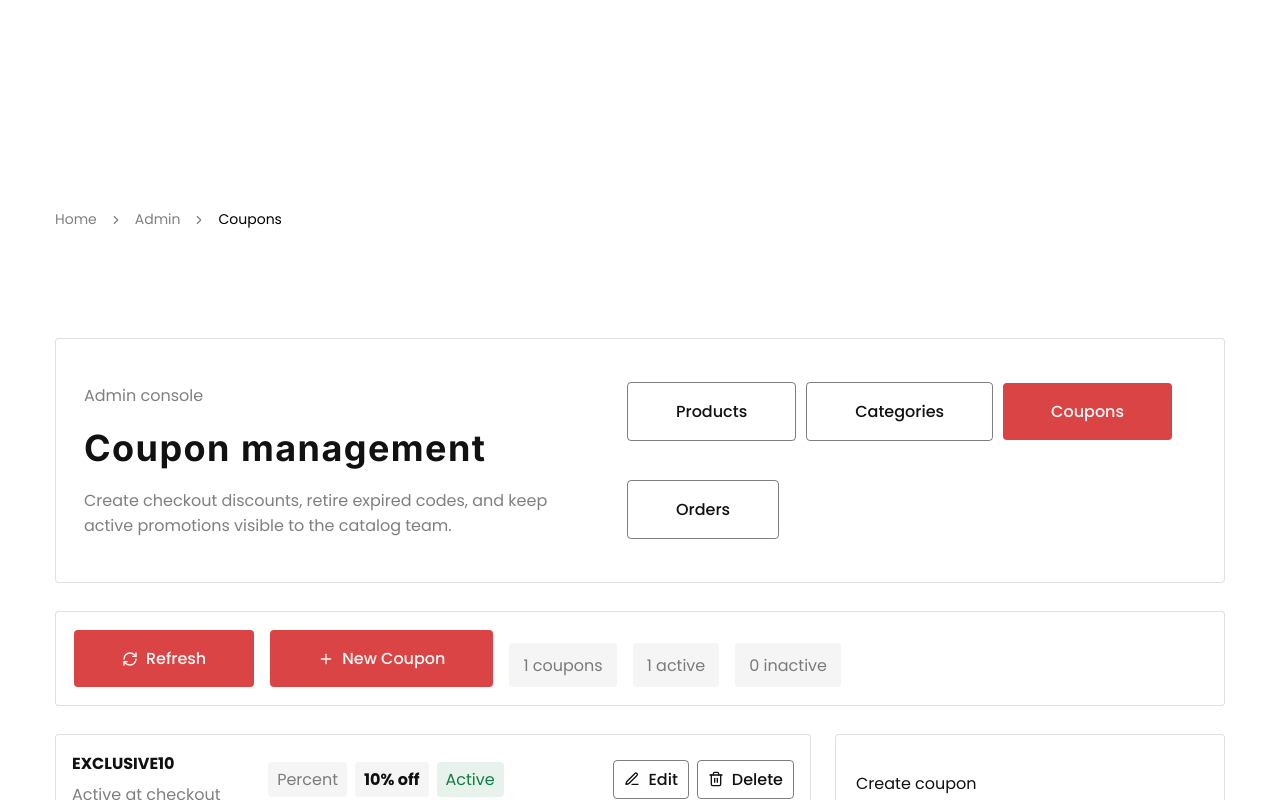
Test: AdminCouponsPage › deletes a coupon on success
Expected: the text "EXCLUSIVE10" is shown, [72, 752, 174, 775]
Click the button "Delete" at (745, 779), box [697, 760, 794, 798]
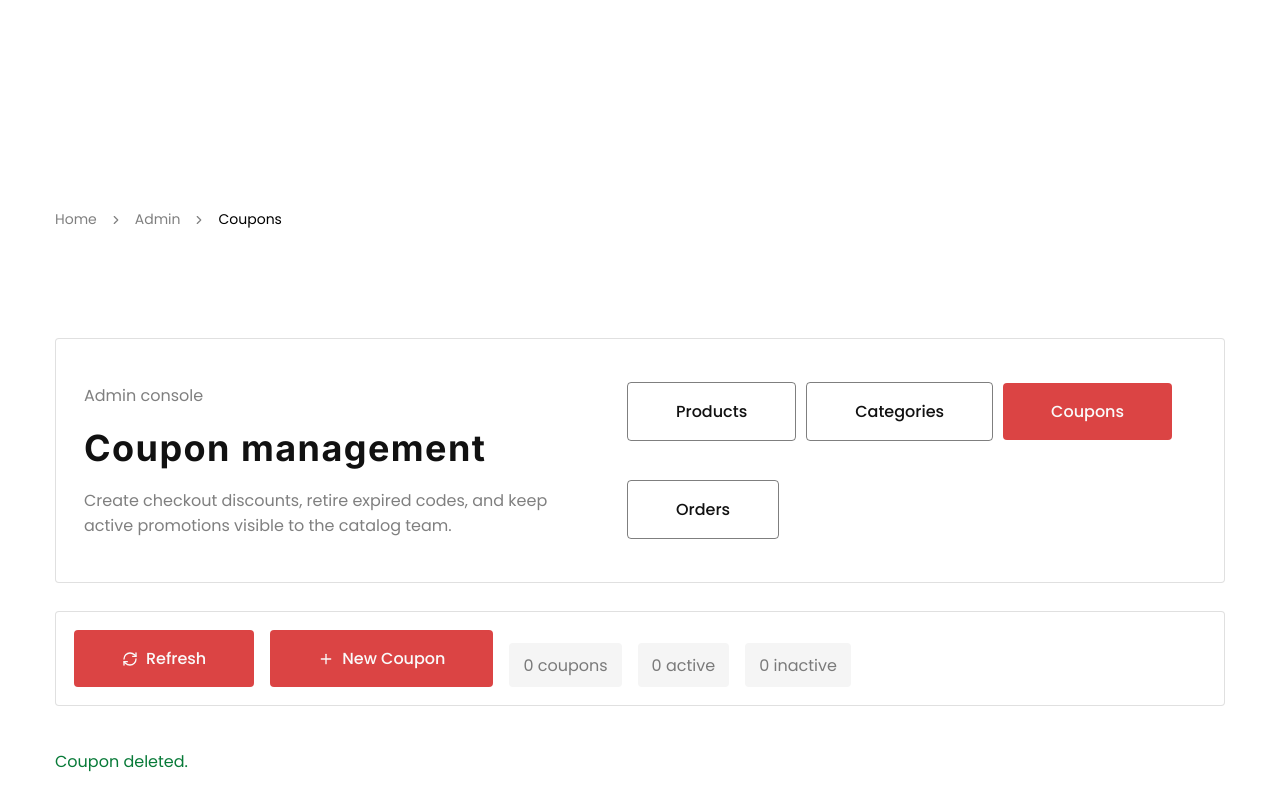
Expected: the text "EXCLUSIVE10" is gone
